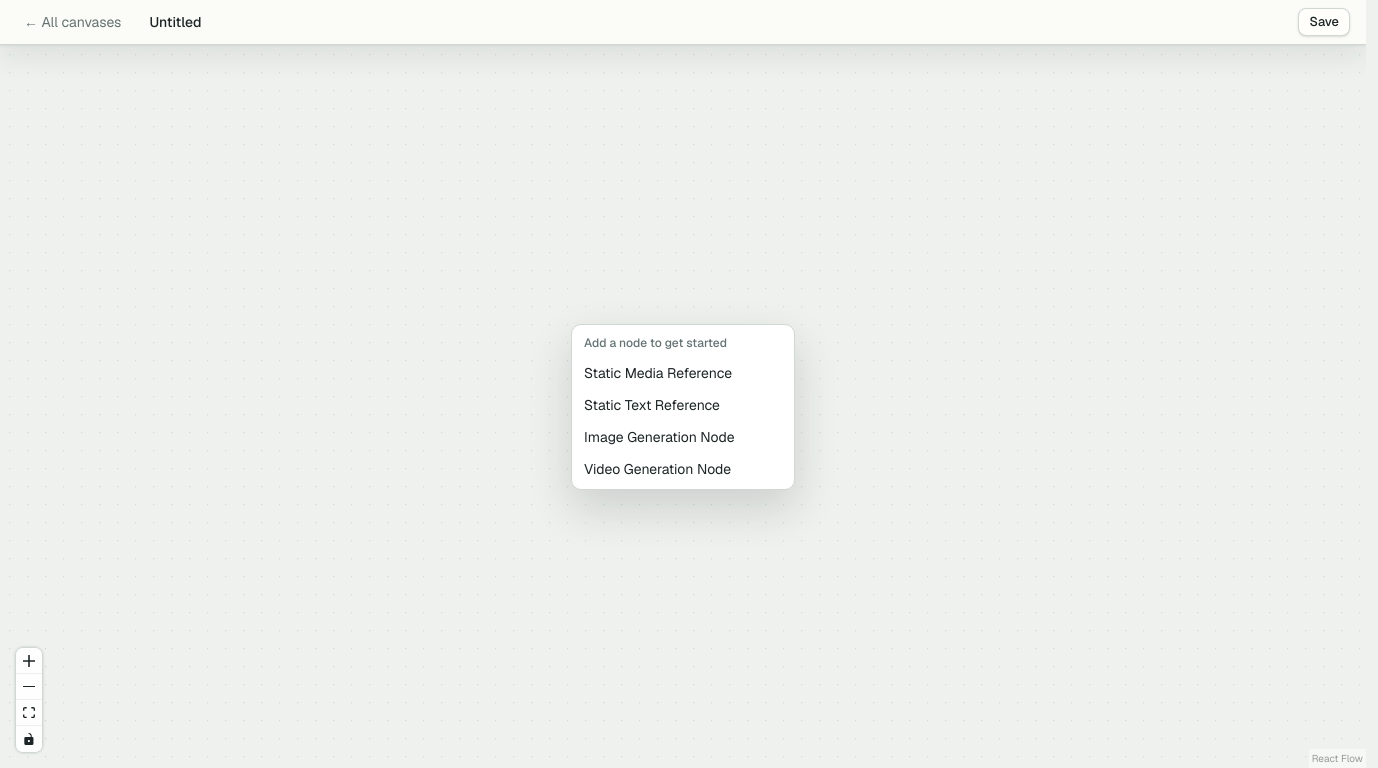
Test: CanvasEditor Image Generation Node from the menu › adds an Image Generation Node when picked from the empty-canvas menu
Click the menu item "Image Generation Node" at (683, 436), box [576, 420, 790, 452]
(page scrolled)
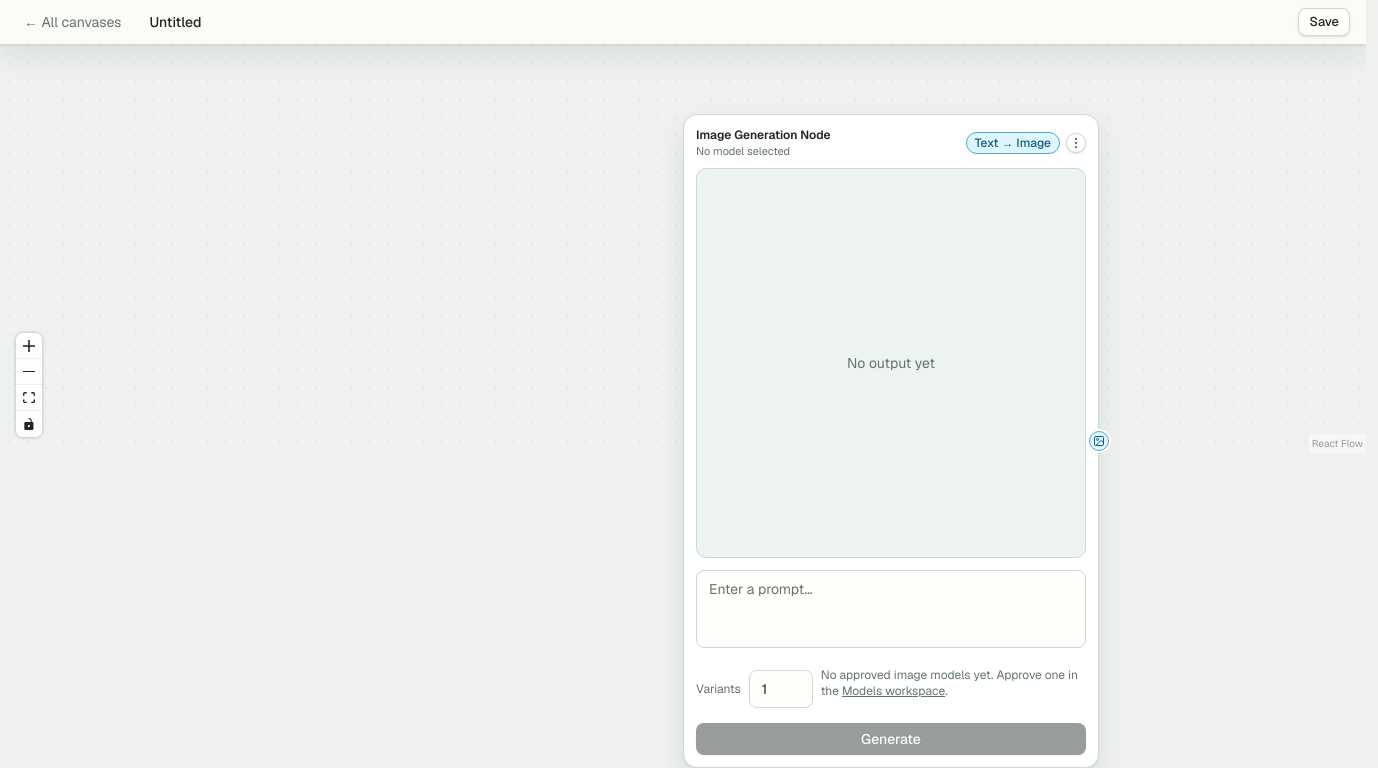
expect the text box with placeholder "Enter a prompt…" is shown: met, box [696, 570, 1086, 648]
